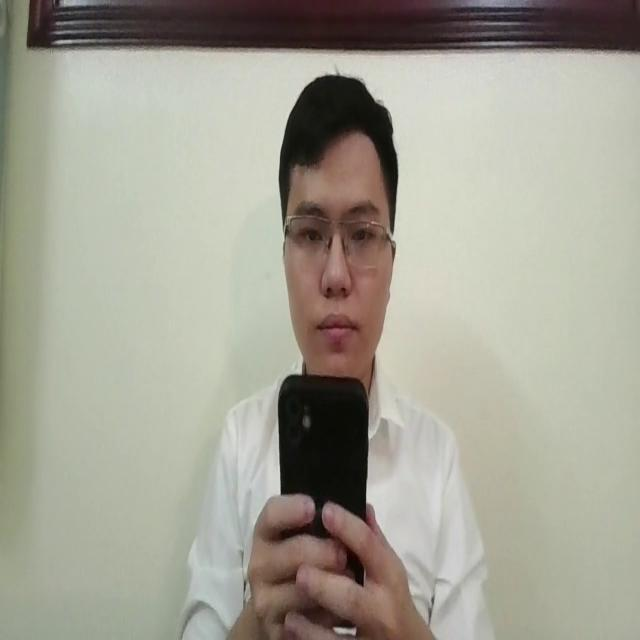phone: (278, 364, 367, 599)
student: (181, 70, 486, 640)
